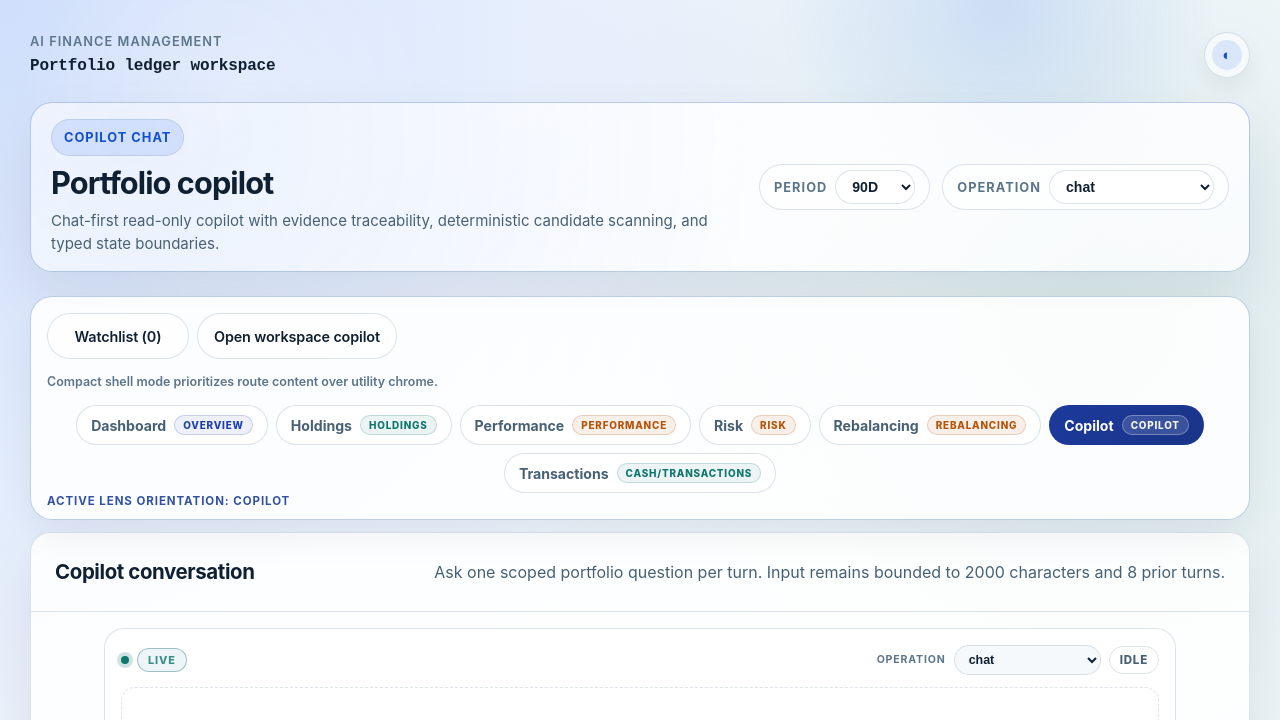
Scenario: PortfolioCopilotPage › renders deterministic opportunity candidates separately from AI narration
Select "opportunity_scan" in the dropdown named "Copilot operation" at (1132, 187), box [1049, 170, 1214, 204]
(page scrolled)
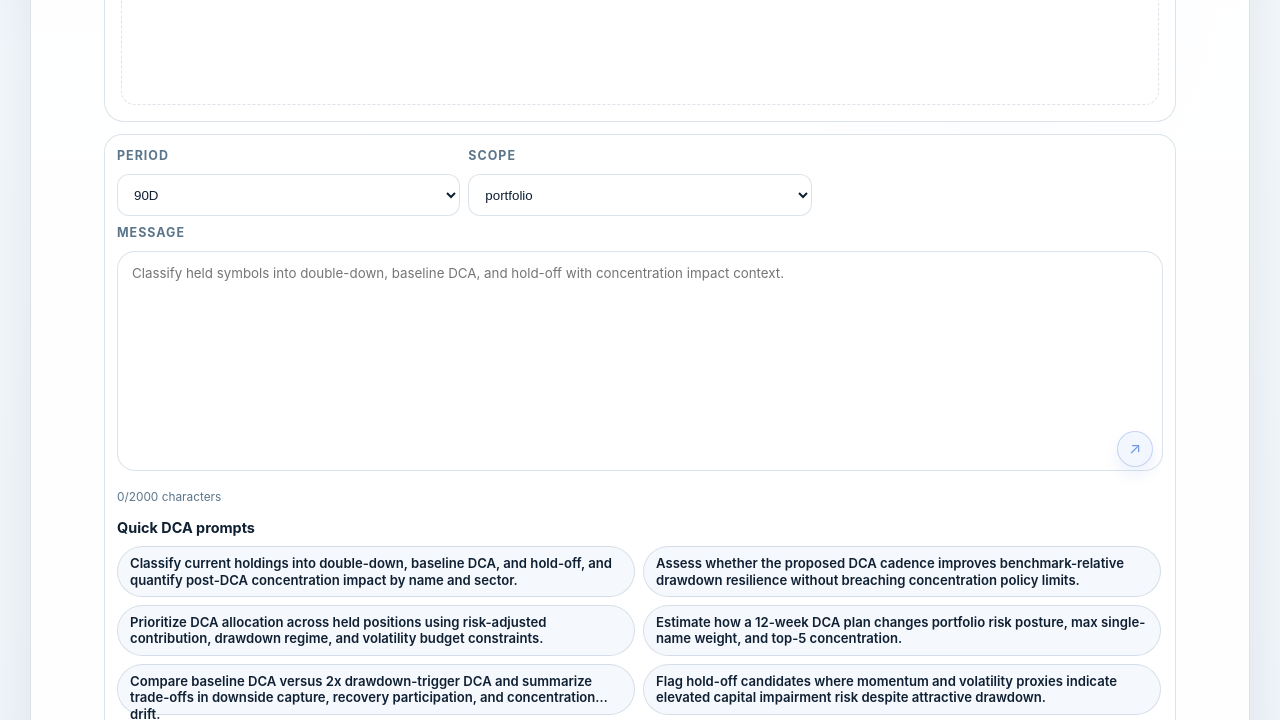
Type "Find discounted opportunity candidates." into the text box named "Copilot user message".
click(640, 361); type("Find discounted opportunity candidates.")  # box [117, 251, 1163, 471]
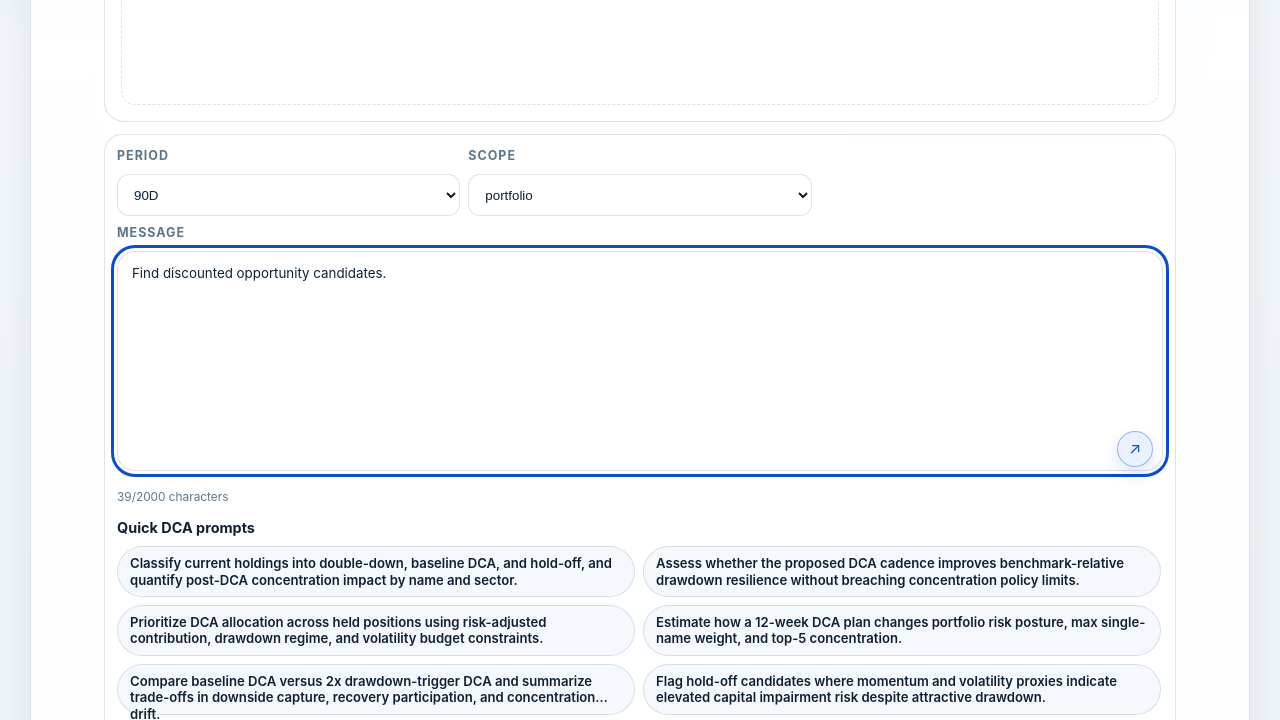
Click the button named "Submit request".
click(1135, 449)  # box [1117, 431, 1153, 467]
(page scrolled)
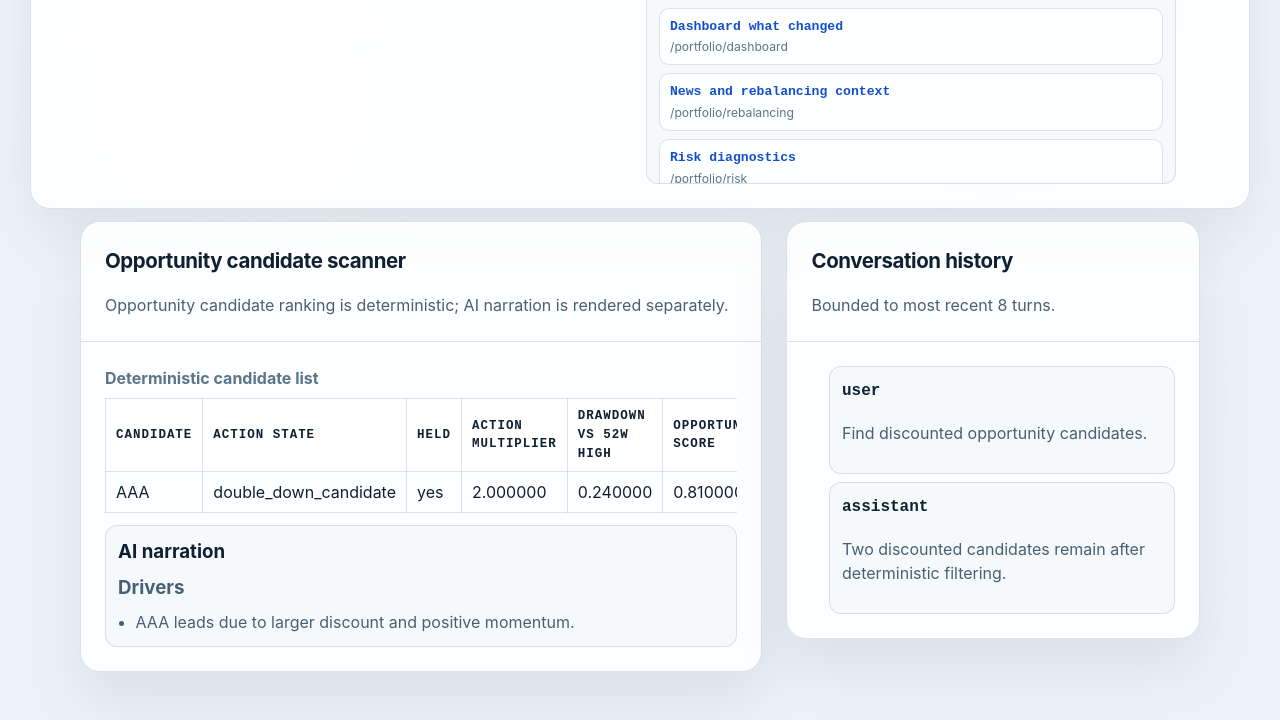
Now the text "AAA" is shown, box [106, 472, 203, 513]
Now the heading "Drivers" is shown, box [118, 576, 184, 599]
Now the list item "AAA leads due to larger discount and positive momentum." is shown, box [136, 612, 575, 632]
